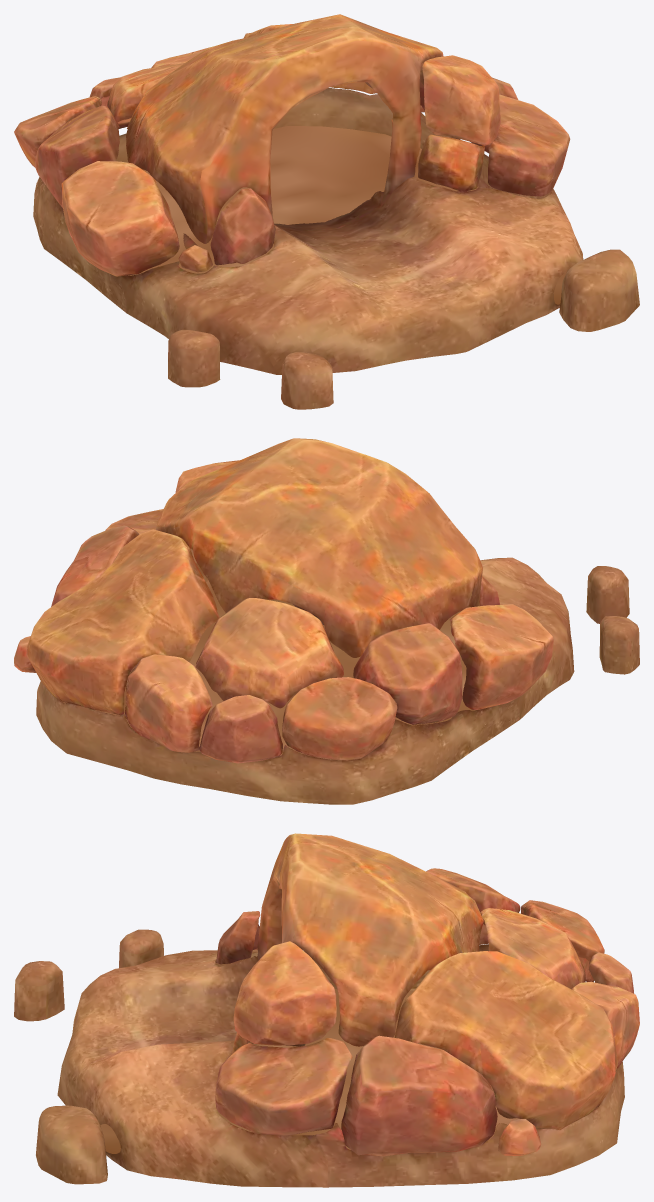
3 views of the same model, one above another, from view 1: azimuth 30°, elevation 25°; view 2: azimuth 150°, elevation 25°; view 3: azimuth 270°, elevation 25° (orthographic). The views are drawn at different scales.
Parts seen in each view (by area): view 1: SM_Kebbit_Burrow_Umbral_Sands_02_LOD0; view 2: SM_Kebbit_Burrow_Umbral_Sands_02_LOD0; view 3: SM_Kebbit_Burrow_Umbral_Sands_02_LOD0.
Boxes of the visible parts, x1,y1,x2,y2 form: SM_Kebbit_Burrow_Umbral_Sands_02_LOD0: [14, 14, 639, 409]; SM_Kebbit_Burrow_Umbral_Sands_02_LOD0: [14, 438, 639, 804]; SM_Kebbit_Burrow_Umbral_Sands_02_LOD0: [14, 833, 639, 1187].
Bounding box in the file's own units: 1.44 × 0.6867 × 1.67.
